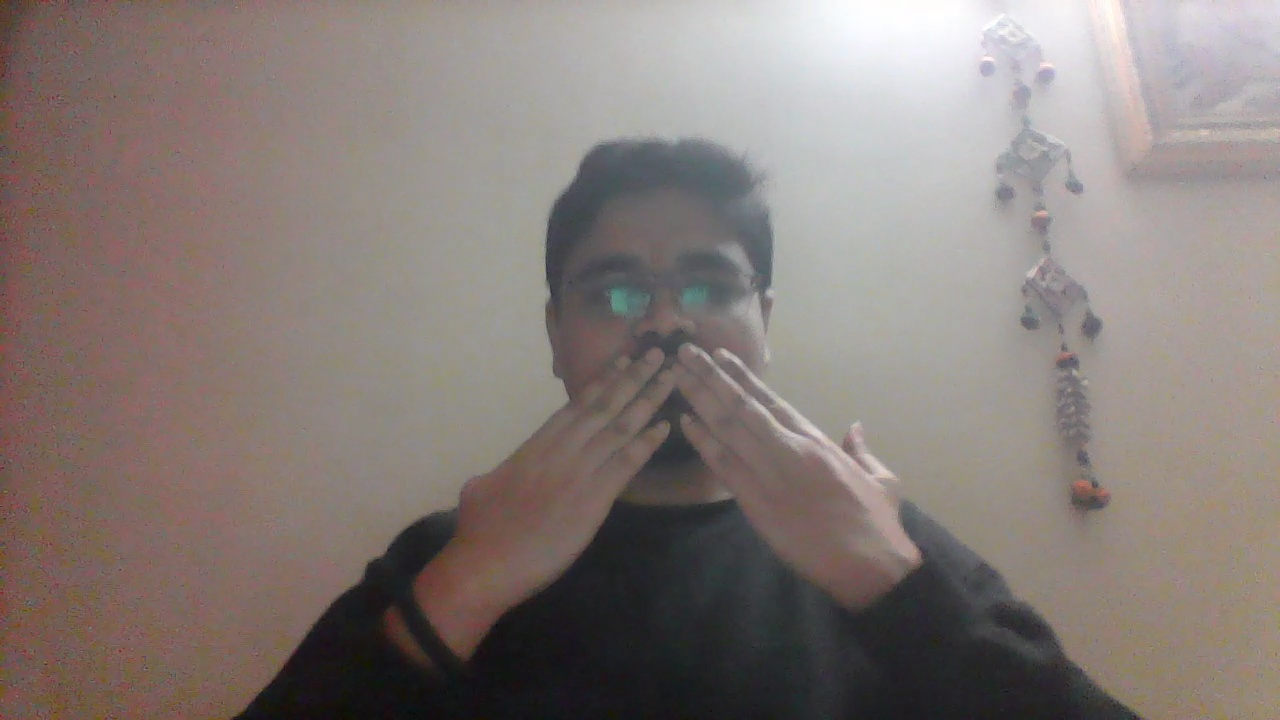Thanks: (459, 341, 911, 603)
